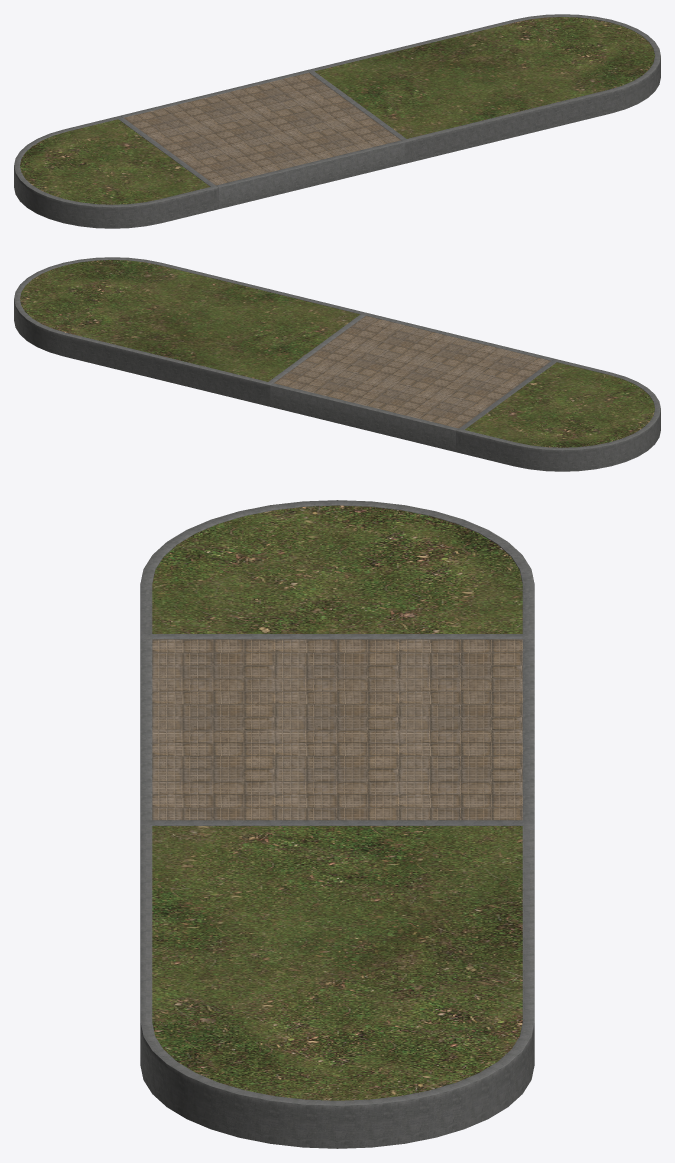
Rendered from SM_Gate_Island.fbx.
3 renders of one model, top to bottom at view 1: azimuth 30°, elevation 25°; view 2: azimuth 150°, elevation 25°; view 3: azimuth 270°, elevation 25°, orthographic. The views are drawn at different scales.
Visible parts, largest first — view 1: SM_Gate_Island_LOD0; view 2: SM_Gate_Island_LOD0; view 3: SM_Gate_Island_LOD0.
Boxes of the visible parts, x1,y1,x2,y2 form: SM_Gate_Island_LOD0: (14, 14, 660, 228); SM_Gate_Island_LOD0: (14, 257, 660, 471); SM_Gate_Island_LOD0: (140, 500, 534, 1148).
Size of the model in its own units: 2400 by 660 by 80.
